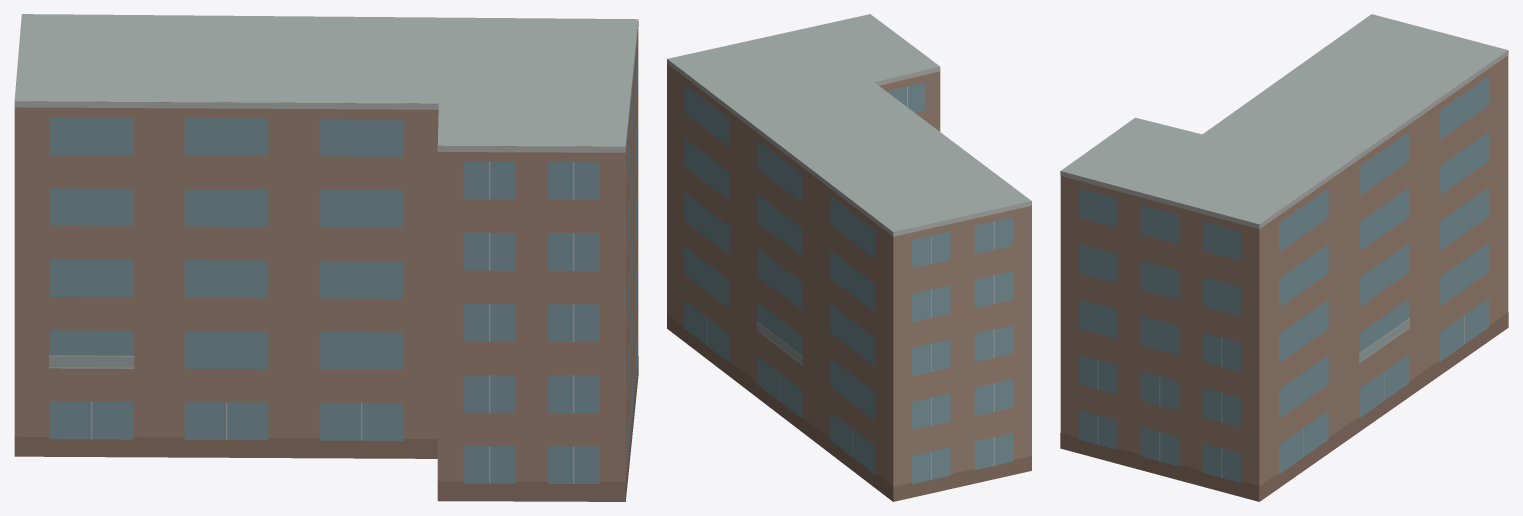
The model's file is survey-upis-32864838.glb.
The picture shows the model from 3 angles, left to right: view 1: azimuth 30°, elevation 25°; view 2: azimuth 150°, elevation 25°; view 3: azimuth 270°, elevation 25°; orthographic projection. The views are drawn at different scales.
Parts seen in each view (by area): view 1: survey-upis-32864838.tmp; view 2: survey-upis-32864838.tmp; view 3: survey-upis-32864838.tmp.
Part boxes in pixels (x1,y1,x2,y2): survey-upis-32864838.tmp: [14, 14, 638, 501]; survey-upis-32864838.tmp: [667, 14, 1031, 501]; survey-upis-32864838.tmp: [1060, 14, 1508, 501].
Size of the model in its own units: 22.89 by 14.07 by 20.6.
